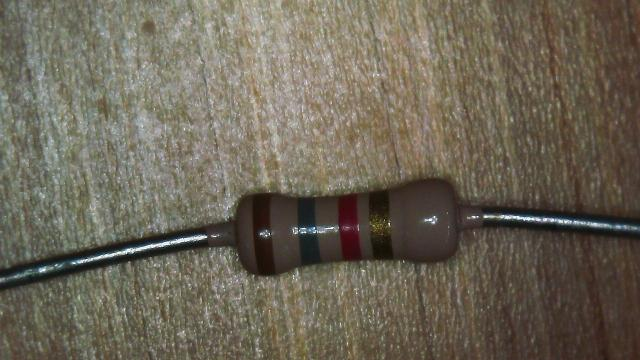brown: (252, 190, 270, 276)
gold: (370, 190, 390, 259)
grey: (300, 196, 316, 266)
red: (339, 192, 358, 262)
resistor: (211, 171, 483, 288)
